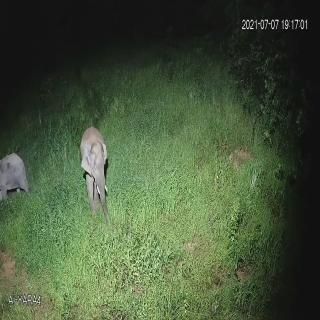Elephant: (77, 120, 113, 227), (0, 138, 35, 212)
